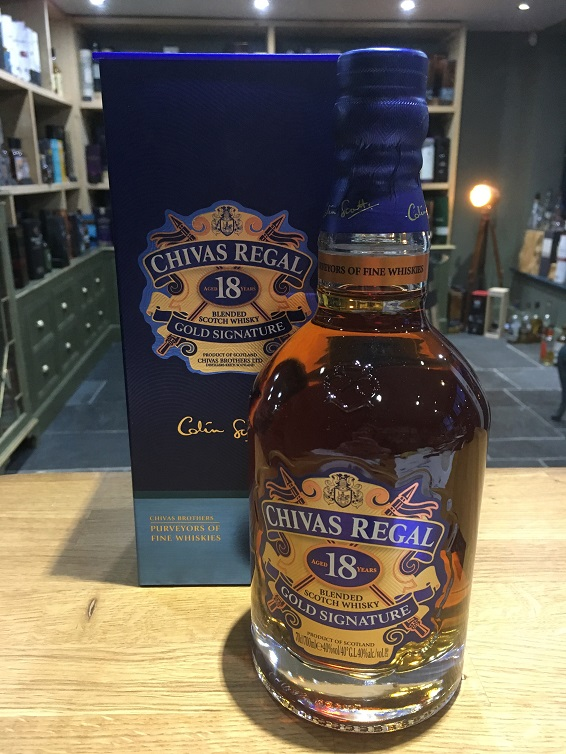Chivas Regal: (228, 31, 505, 743)
